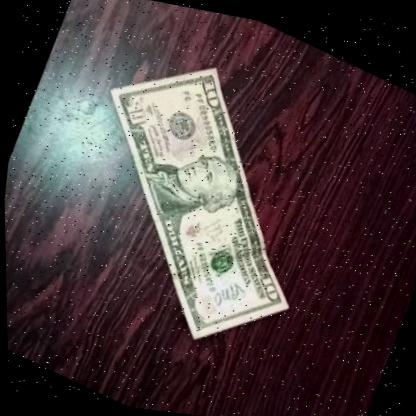ten-front: (20, 13, 369, 382)
